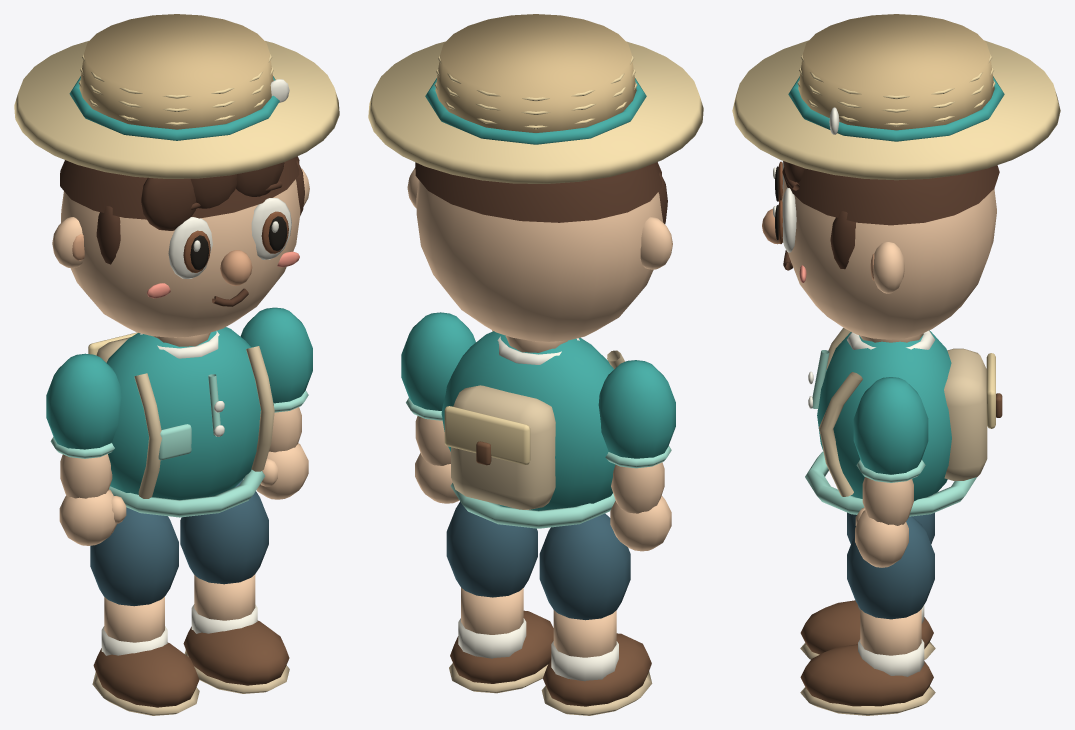
The model's file is tropical-avatar.glb.
3 renders of one model, left to right at view 1: azimuth 30°, elevation 25°; view 2: azimuth 150°, elevation 25°; view 3: azimuth 270°, elevation 25°, orthographic. The views are drawn at different scales.
Visible parts, largest first — view 1: Avatar_HatBrim, Avatar_Torso, Avatar_HatCrown, Avatar_Head, Avatar_Thigh_L, Avatar_Sleeve_L, Avatar_Thigh_R, Avatar_Boot_L, Avatar_Boot_R, Avatar_Hair, Avatar_Sleeve_R, Avatar_HatBand (+24 smaller); view 2: Avatar_Head, Avatar_HatBrim, Avatar_HatCrown, Avatar_Torso, Avatar_Hair, Avatar_Pack, Avatar_Thigh_L, Avatar_Sleeve_L, Avatar_Thigh_R, Avatar_Sleeve_R, Avatar_Boot_L, Avatar_Boot_R (+17 smaller); view 3: Avatar_HatBrim, Avatar_HatCrown, Avatar_Head, Avatar_Torso, Avatar_Hair, Avatar_Sleeve_R, Avatar_Thigh_R, Avatar_Boot_R, Avatar_Pack, Avatar_HatBand, Avatar_Boot_L, Avatar_ShirtHem (+13 smaller).
Part boxes in pixels (<box>): Avatar_HatBrim: <box>14,40,339,178</box>; Avatar_Torso: <box>106,327,273,499</box>; Avatar_HatCrown: <box>79,14,273,129</box>; Avatar_Head: <box>61,179,300,337</box>; Avatar_Thigh_L: <box>90,507,178,606</box>; Avatar_Sleeve_L: <box>46,353,121,449</box>; Avatar_Thigh_R: <box>180,479,268,584</box>; Avatar_Boot_L: <box>93,642,199,707</box>; Avatar_Boot_R: <box>183,620,289,685</box>; Avatar_Hair: <box>60,156,299,219</box>; Avatar_Sleeve_R: <box>240,307,312,403</box>; Avatar_HatBand: <box>69,76,279,140</box>; Avatar_Head: <box>416,180,663,341</box>; Avatar_HatBrim: <box>368,41,703,183</box>; Avatar_HatCrown: <box>435,14,636,132</box>; Avatar_Torso: <box>441,331,615,510</box>; Avatar_Hair: <box>415,162,662,222</box>; Avatar_Pack: <box>451,385,555,509</box>; Avatar_Thigh_L: <box>539,513,630,620</box>; Avatar_Sleeve_L: <box>598,360,675,458</box>; Avatar_Thigh_R: <box>446,501,537,597</box>; Avatar_Sleeve_R: <box>401,312,475,410</box>; Avatar_Boot_L: <box>543,633,651,706</box>; Avatar_Boot_R: <box>450,610,553,683</box>; Avatar_HatBrim: <box>732,40,1060,180</box>; Avatar_HatCrown: <box>798,14,994,130</box>; Avatar_Head: <box>782,180,996,339</box>; Avatar_Torso: <box>817,330,951,501</box>; Avatar_Hair: <box>782,165,999,225</box>; Avatar_Sleeve_R: <box>853,377,928,474</box>; Avatar_Thigh_R: <box>847,516,934,619</box>; Avatar_Boot_R: <box>800,644,933,706</box>; Avatar_Pack: <box>944,348,987,480</box>; Avatar_HatBand: <box>788,76,1004,141</box>; Avatar_Boot_L: <box>800,600,933,654</box>; Avatar_ShirtHem: <box>805,451,976,516</box>.
Bounding box in the file's own units: 0.91 × 1.92 × 0.91.
